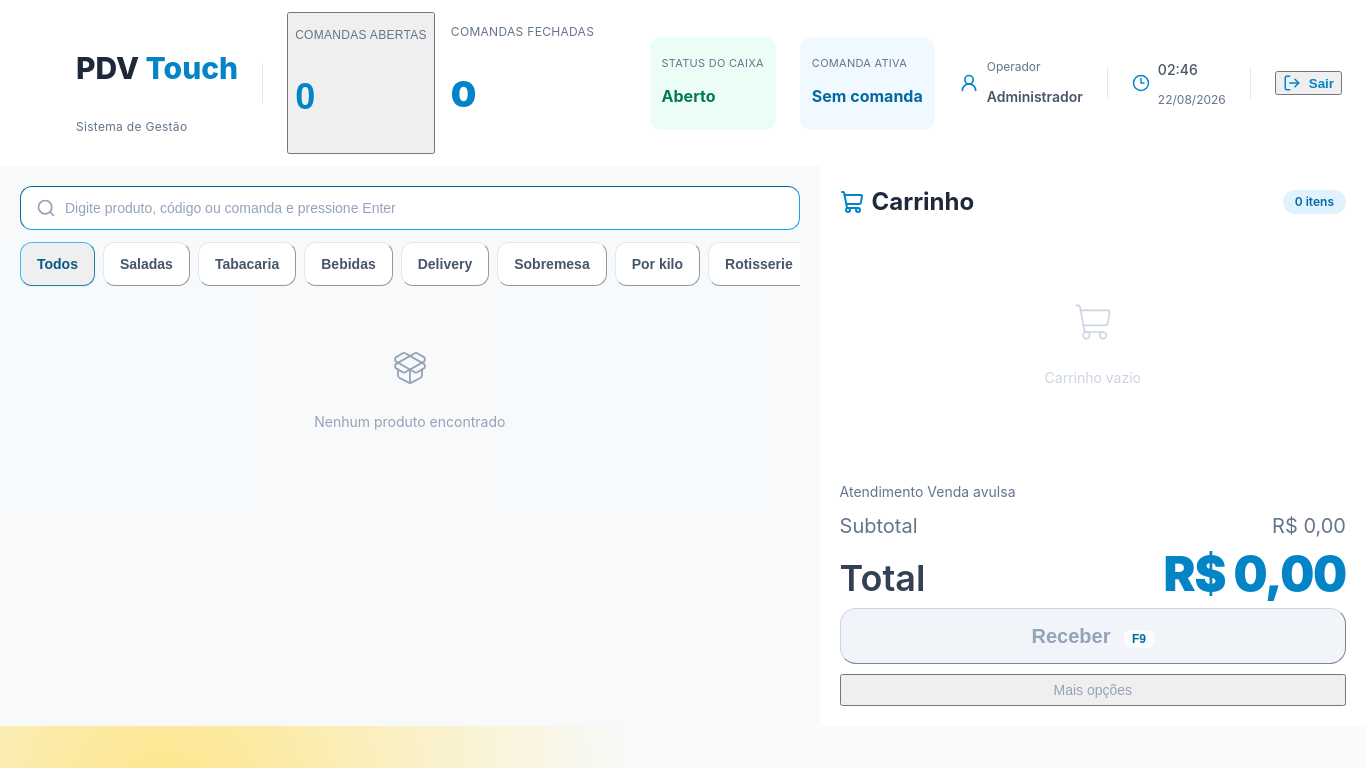
Test: Carregamento da comanda no caixa › permite abrir comanda reaproveitada quando o backend tem movimentação mais recente que o cancelamento local
Type "1" into the field with placeholder "Digite produto, código ou comanda e pressione Enter" at (410, 208), box 20,186 -> 800,230
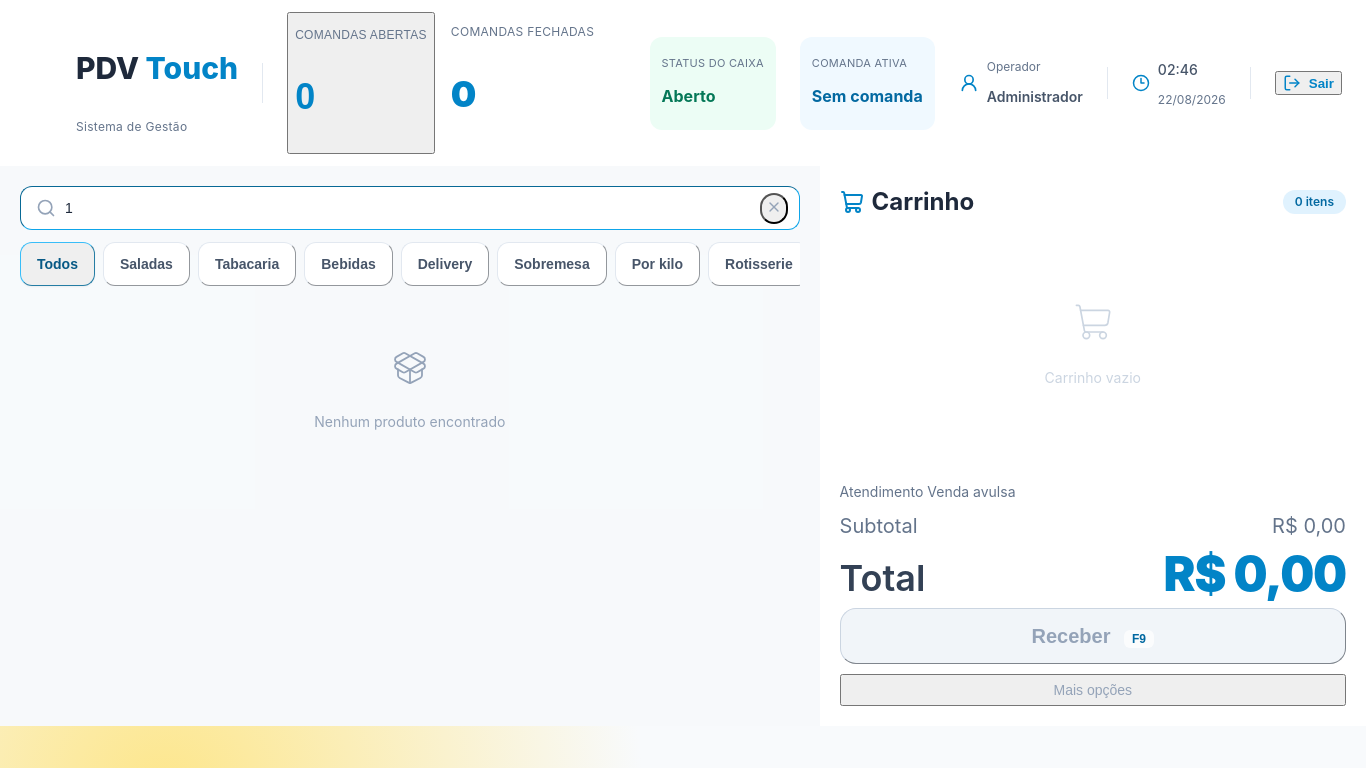
Press Enter in the field with placeholder "Digite produto, código ou comanda e pressione Enter", box 20,186 -> 800,230
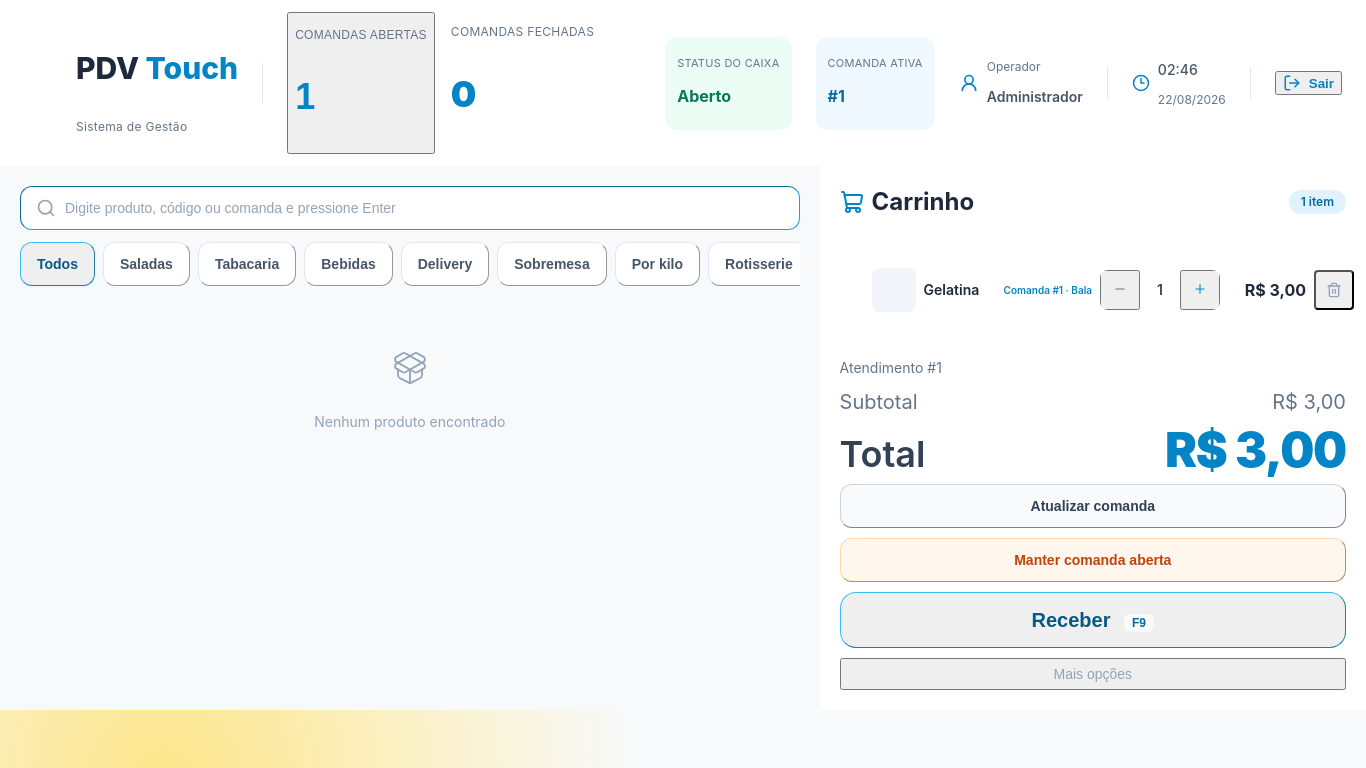
Result: the text "Gelatina" is shown at 924,281 -> 979,298
Result: the text "#1" is shown at 828,86 -> 845,106
